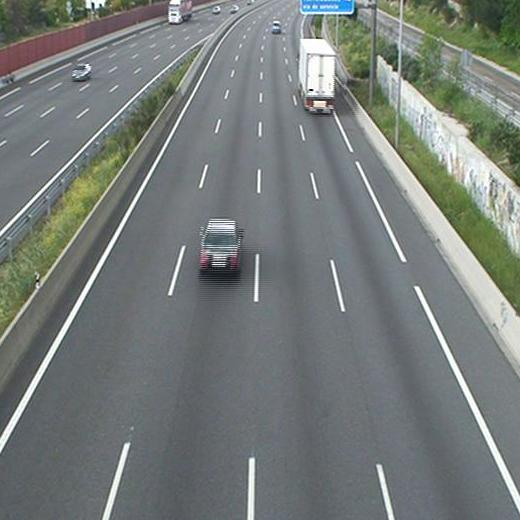car: (199, 217, 244, 278), (271, 21, 281, 35)
truck: (296, 36, 337, 115)
